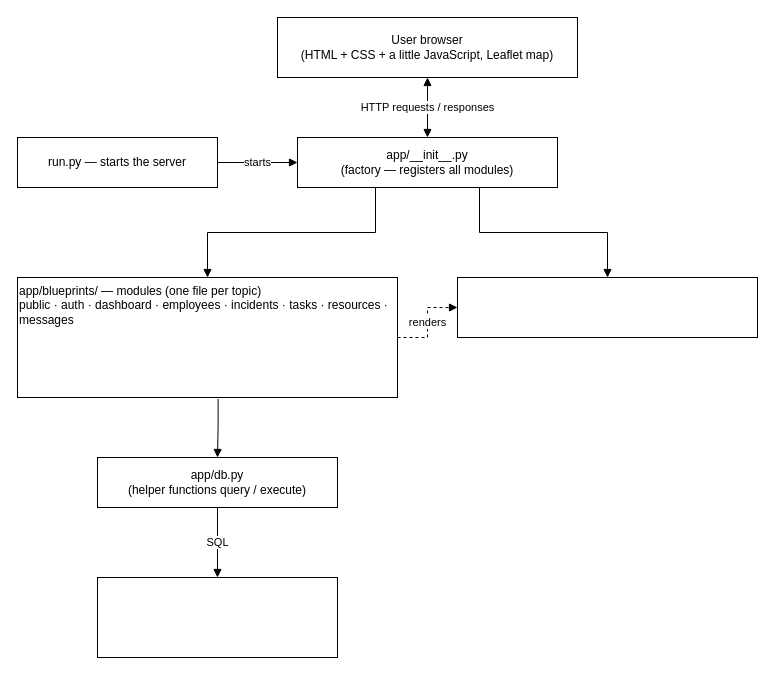
Some shapes in this 775 by 675 pixel diagram are drawn without their labels. Each missing label, with the centre of its shape:
app/templates/ — HTML pages (Jinja2) app/static/ — CSS and JS: (607,307)
database/gdpbzn.db (SQLite file database) created from schema.sql + seed.sql: (217,617)
